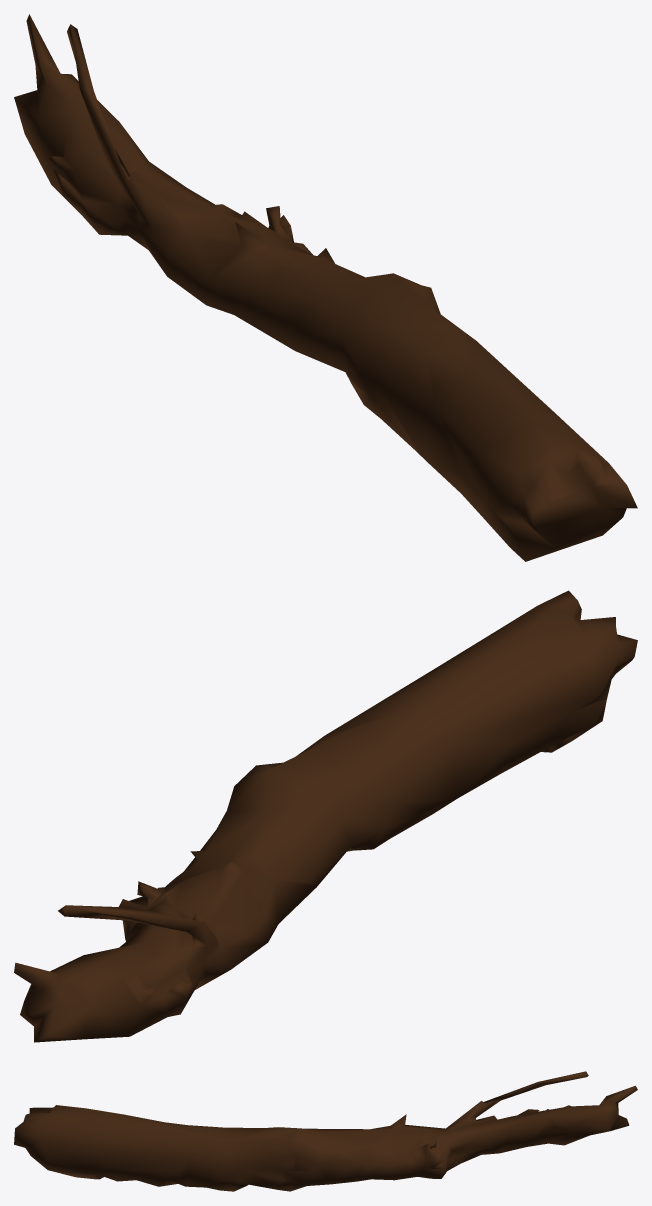
File: zars3mesh.fbx
3 views of the same model, one above another, from view 1: azimuth 30°, elevation 25°; view 2: azimuth 150°, elevation 25°; view 3: azimuth 270°, elevation 25° (orthographic). The views are drawn at different scales.
Parts seen in each view (by area): view 1: dry_branches_medium_01_c; view 2: dry_branches_medium_01_c; view 3: dry_branches_medium_01_c.
Boxes of the visible parts, x1=… form: dry_branches_medium_01_c: x1=14, y1=14, x2=637, y2=561; dry_branches_medium_01_c: x1=14, y1=590, x2=637, y2=1042; dry_branches_medium_01_c: x1=14, y1=1071, x2=637, y2=1191.
Bounding box in the file's own units: 1.31 × 1.51 × 8.13.
